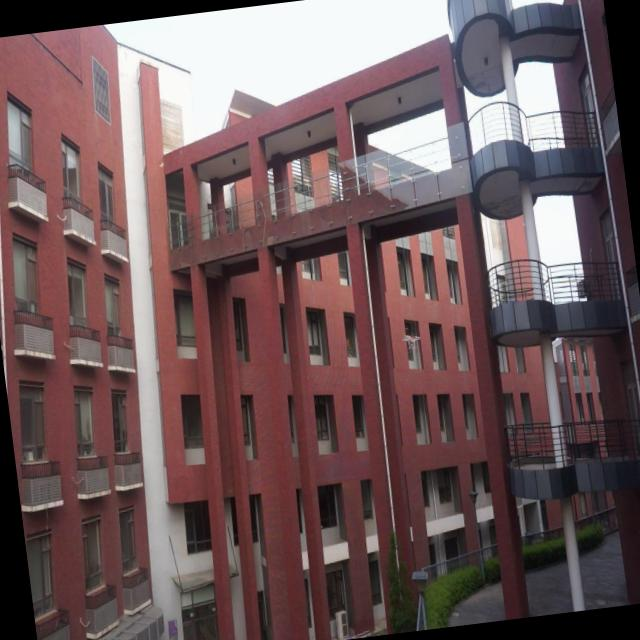drone: (399, 328, 422, 354)
